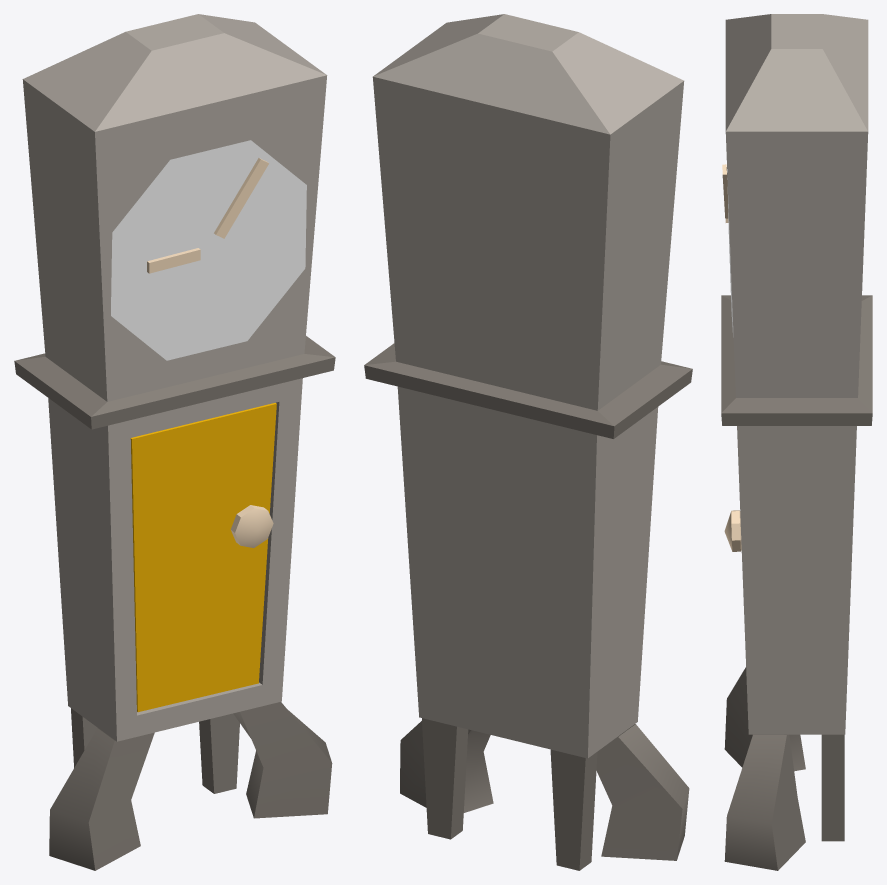
File: GrandFatherClock.fbx
The picture shows the model from 3 angles, left to right: view 1: azimuth 30°, elevation 25°; view 2: azimuth 150°, elevation 25°; view 3: azimuth 270°, elevation 25°; orthographic projection. The views are drawn at different scales.
Visible parts, largest first — view 1: pCylinder7, pCylinder4; view 2: pCylinder7; view 3: pCylinder7, pCylinder4.
Part boxes in pixels (x1,y1,x2,y2): pCylinder7: [14, 14, 335, 870]; pCylinder4: [130, 402, 276, 712]; pCylinder7: [364, 14, 692, 870]; pCylinder7: [721, 14, 872, 870]; pCylinder4: [724, 510, 741, 551].
Size of the model in its own units: 2.72 by 7.39 by 1.31.
